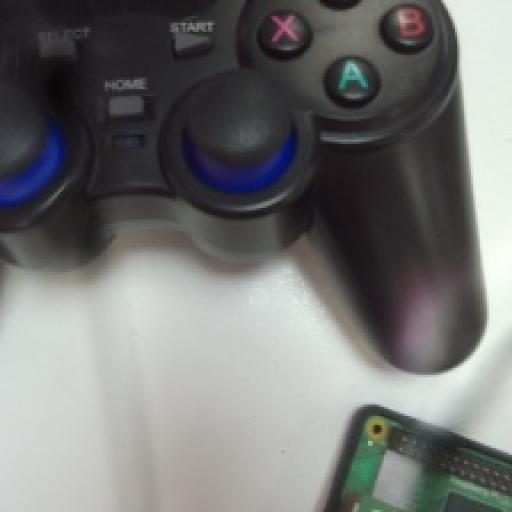game pad: (0, 0, 485, 370)
